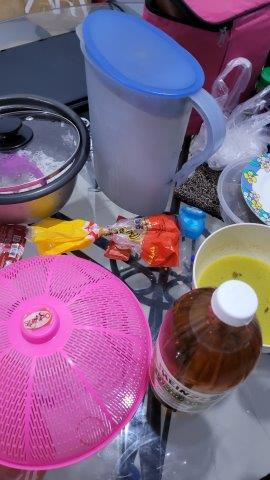plastik: (202, 64, 270, 173)
